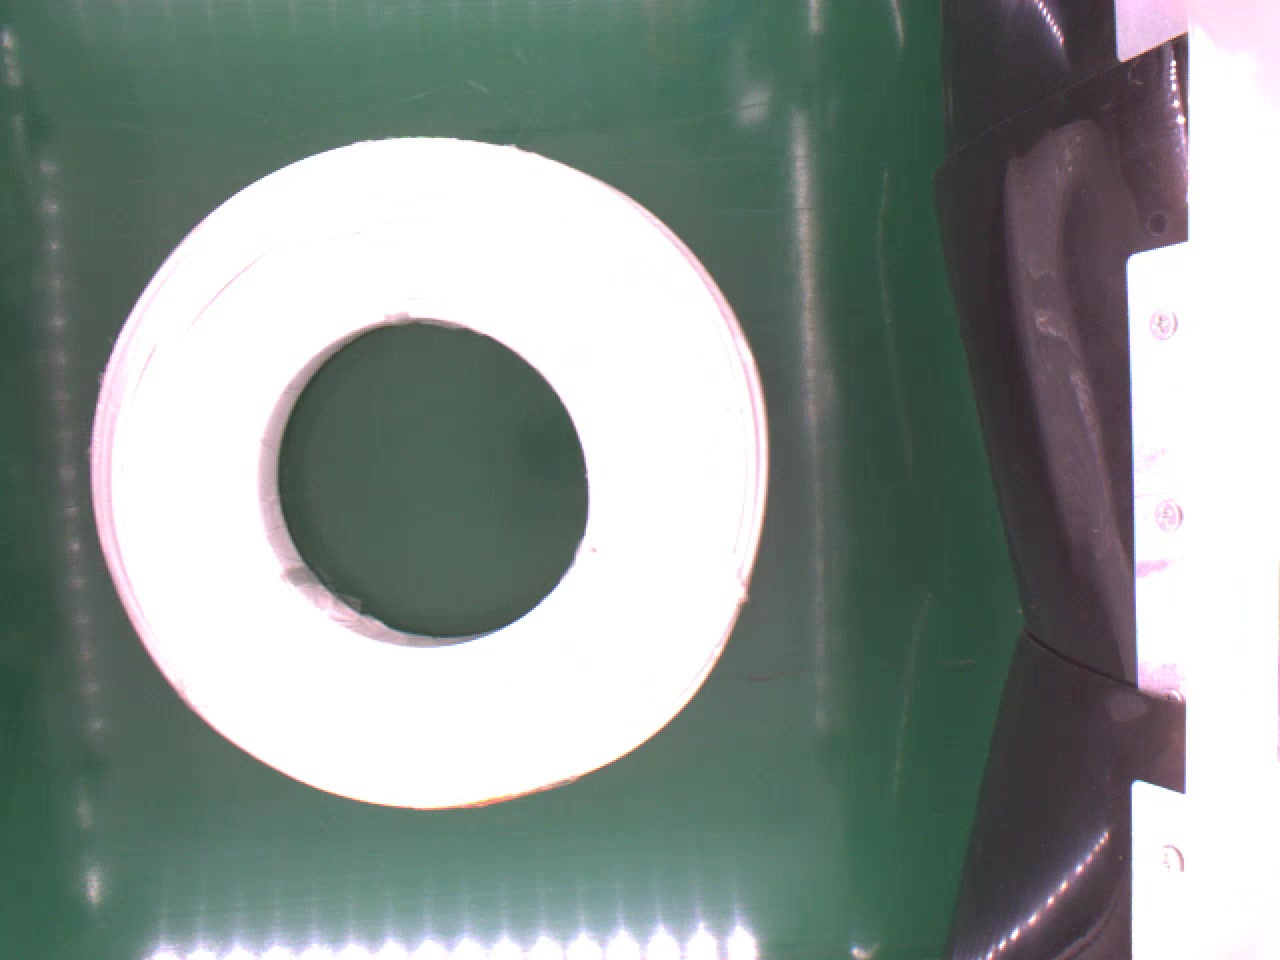white: (83, 131, 769, 818)
